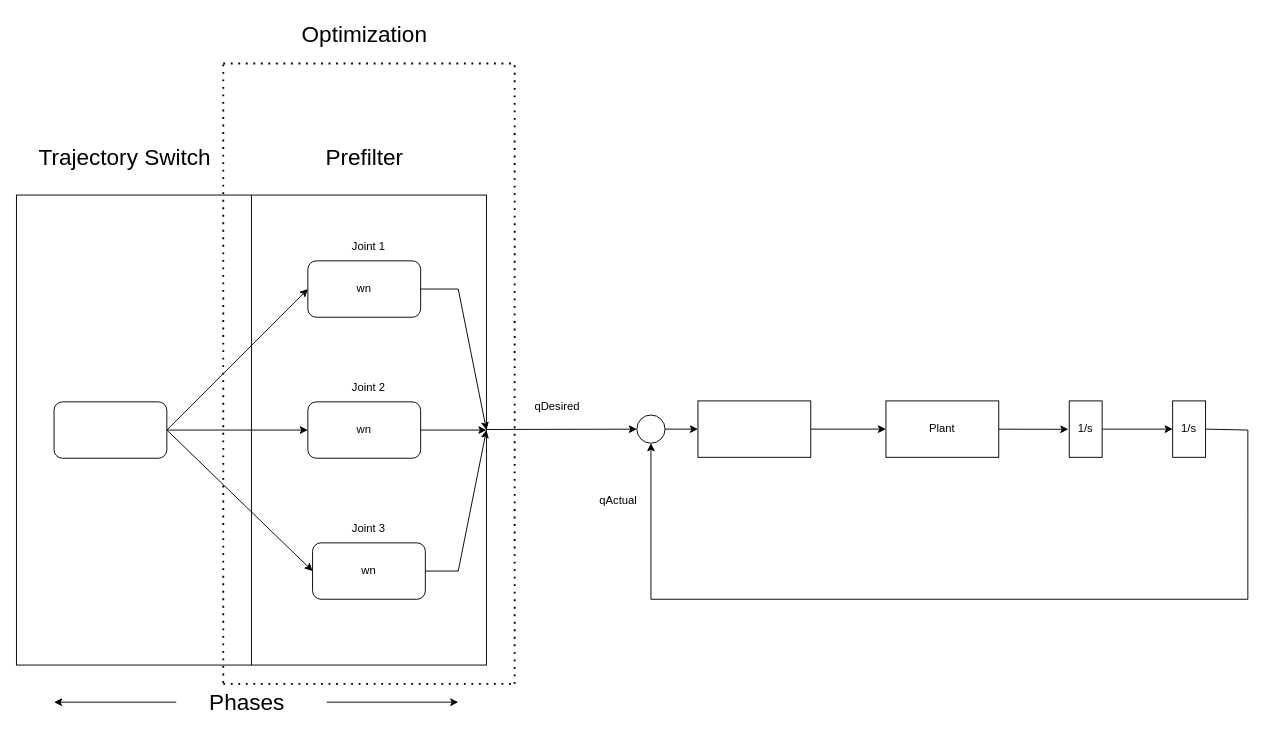
This 1272x737 diagram has some shape labels left out. The shapes that lost their labels are listed below. From the top down, each one's box as (x1, y1, x2, y2) in pixels, then its label:
(53, 401, 167, 458): Start - End point
(697, 400, 811, 457): PD Controller
